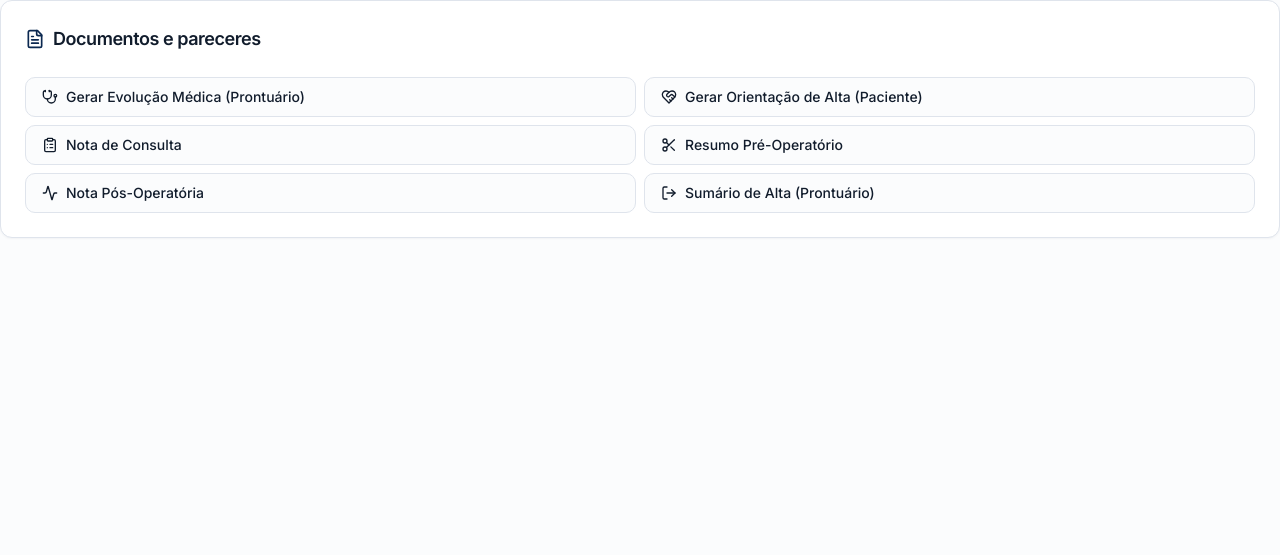
Test case: DocumentGenerator › não inventa ressalva quando todas as fontes são revisadas
The width and height of the screenshot is (1280, 555).
Later steps or results of the test are not shown.
Step 1. Click the button "Nota de Consulta" → (124, 144), box [25, 125, 636, 165]
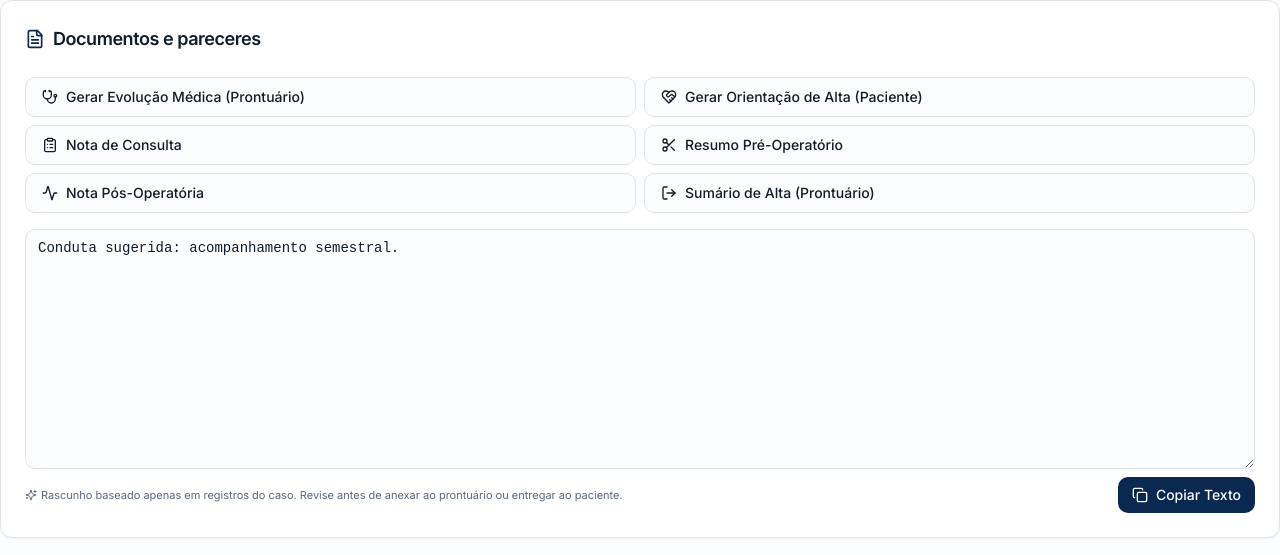
Result: the text box named "editável" holds "Conduta sugerida: acompanhamento semestral." at [25, 229, 1255, 469]
